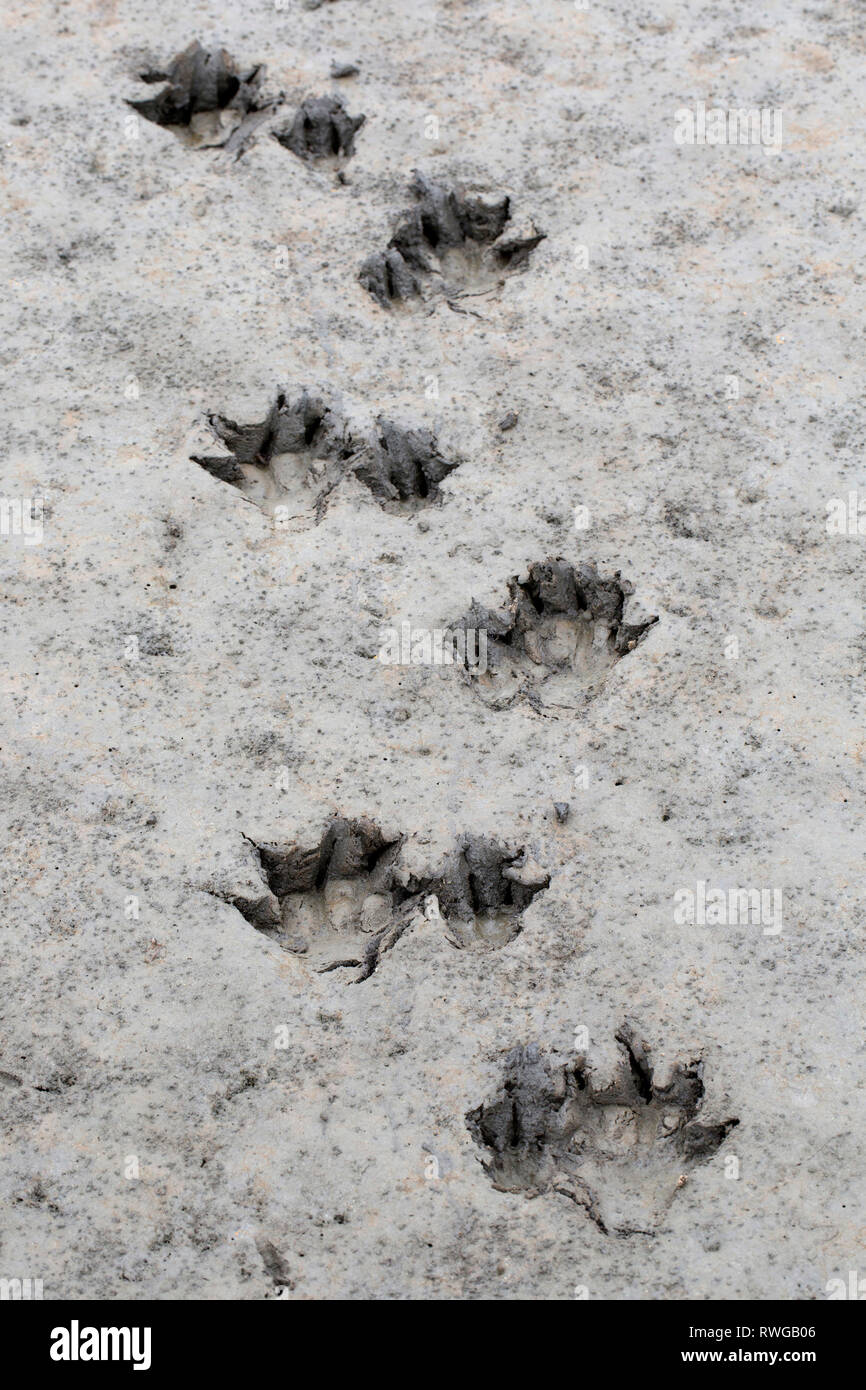beaver: (203, 812, 555, 979), (455, 1032, 733, 1232), (185, 391, 471, 536), (427, 560, 672, 714), (123, 46, 377, 176), (337, 188, 559, 319)
